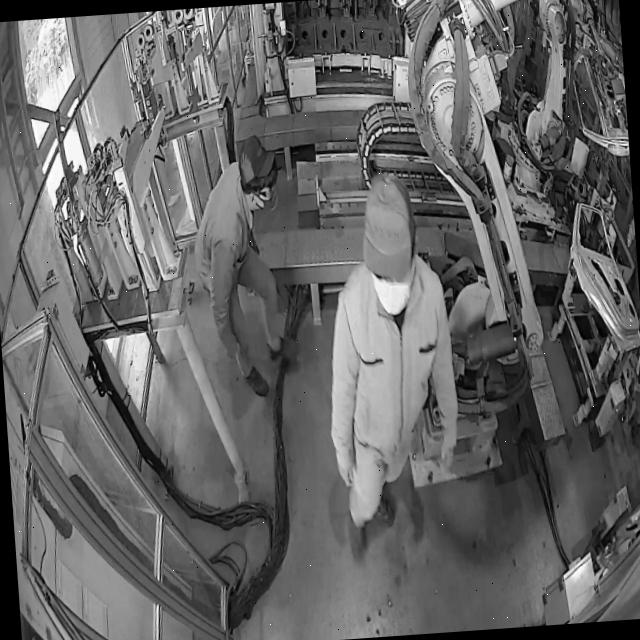Person: (313, 168, 467, 532), (185, 132, 294, 402), (492, 2, 528, 116), (616, 184, 640, 314)
